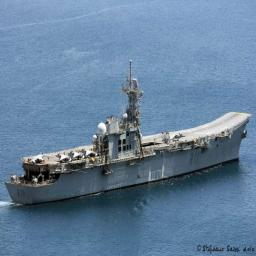Portanaves: (3, 57, 255, 209)
